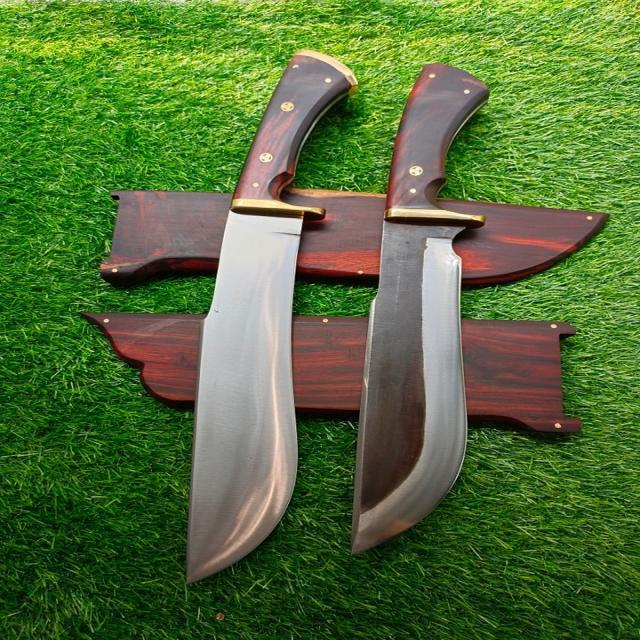eto: (177, 38, 371, 595), (342, 57, 516, 568)
